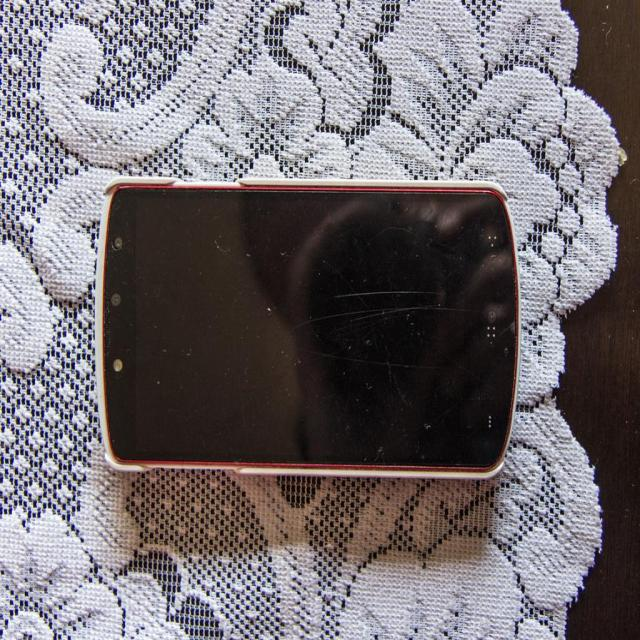Phone: (90, 177, 530, 490)
